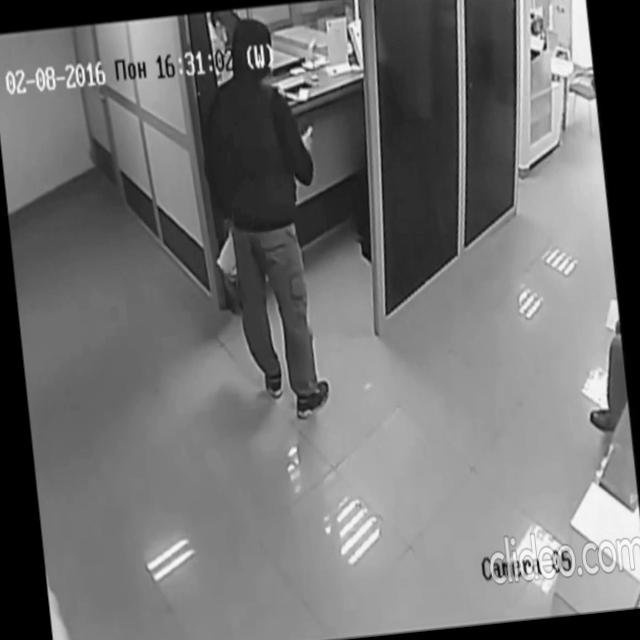gun: (296, 117, 316, 153)
person with a gun: (190, 12, 342, 427)
